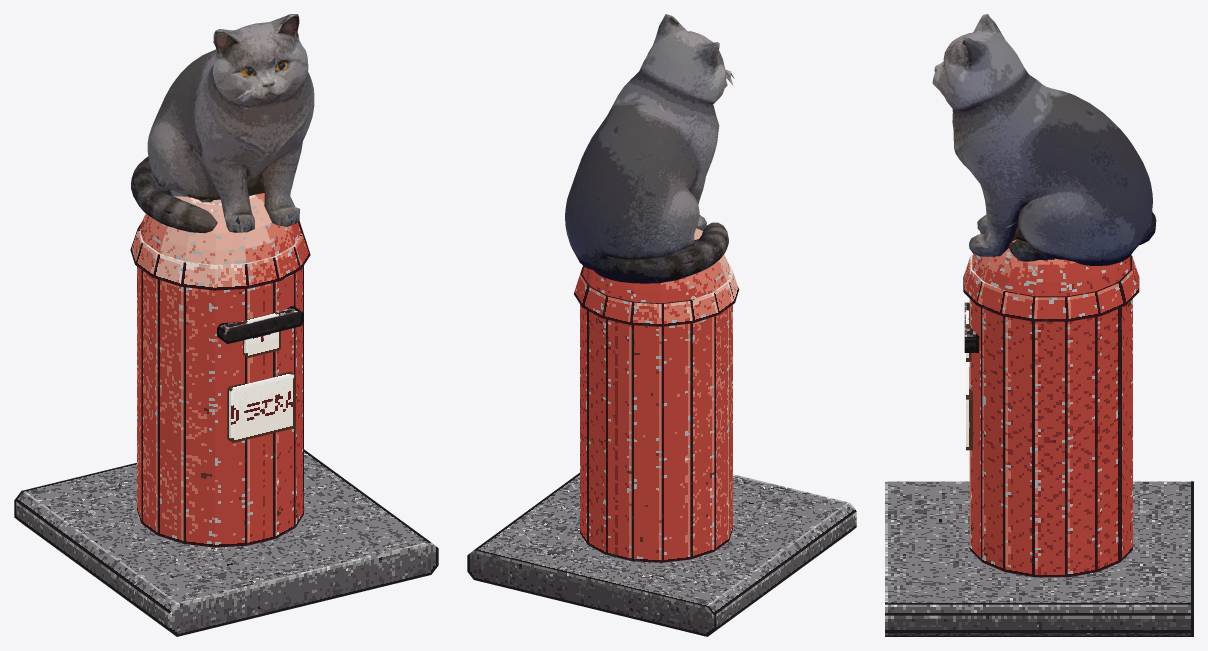
The model's file is postbox.glb.
The picture shows the model from 3 angles, left to right: view 1: azimuth 30°, elevation 25°; view 2: azimuth 150°, elevation 25°; view 3: azimuth 270°, elevation 25°; orthographic projection. The views are drawn at different scales.
Parts seen in each view (by area): view 1: pb_body, base, model_cat, pb_dome, pb_cap, pb_plate, pb_slot, pb_mark; view 2: pb_body, model_cat, base, pb_cap, pb_dome; view 3: pb_body, base, model_cat, pb_cap, pb_dome, pb_plate.
Part boxes in pixels (left/top/right/bottom): pb_body: left=137, top=266, right=303, bottom=547; base: left=14, top=449, right=438, bottom=636; model_cat: left=131, top=14, right=314, bottom=233; pb_dome: left=139, top=193, right=300, bottom=264; pb_cap: left=130, top=221, right=310, bottom=290; pb_plate: left=227, top=371, right=295, bottom=442; pb_slot: left=217, top=306, right=303, bottom=343; pb_mark: left=243, top=312, right=280, bottom=357; pb_body: left=580, top=304, right=732, bottom=562; model_cat: left=565, top=14, right=734, bottom=283; base: left=467, top=472, right=856, bottom=636; pb_cap: left=574, top=263, right=739, bottom=326; pb_dome: left=582, top=228, right=730, bottom=303; pb_body: left=969, top=299, right=1132, bottom=577; base: left=885, top=481, right=1193, bottom=636; model_cat: left=932, top=14, right=1156, bottom=265; pb_cap: left=963, top=254, right=1139, bottom=321; pb_dome: left=972, top=239, right=1130, bottom=296; pb_plate: left=966, top=367, right=972, bottom=450.
Bounding box in the file's own units: 26 × 51.25 × 26.
2 materials, 2 textured.
